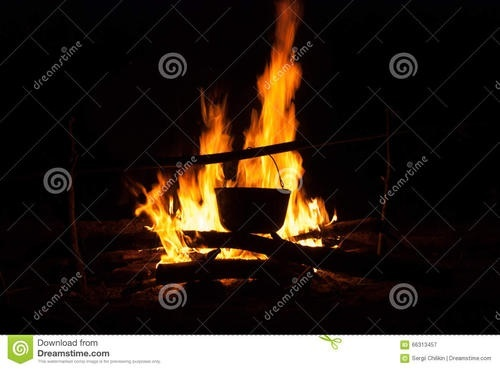fire: (132, 15, 340, 271)
